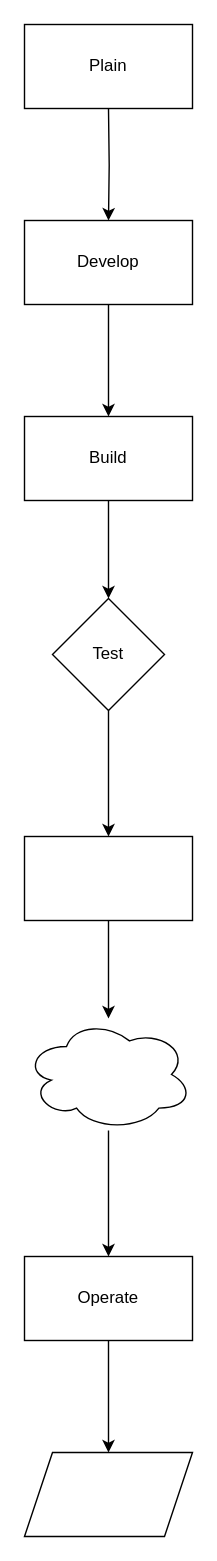
Image size: 217x1561. Some labels were removed from this diagram. Here are the shapes that lost their labels. From the top down, the centre of each, then its label:
At (107,877): "Release".
At (107,1073): "Deploy".
At (107,1493): "Monitor".
